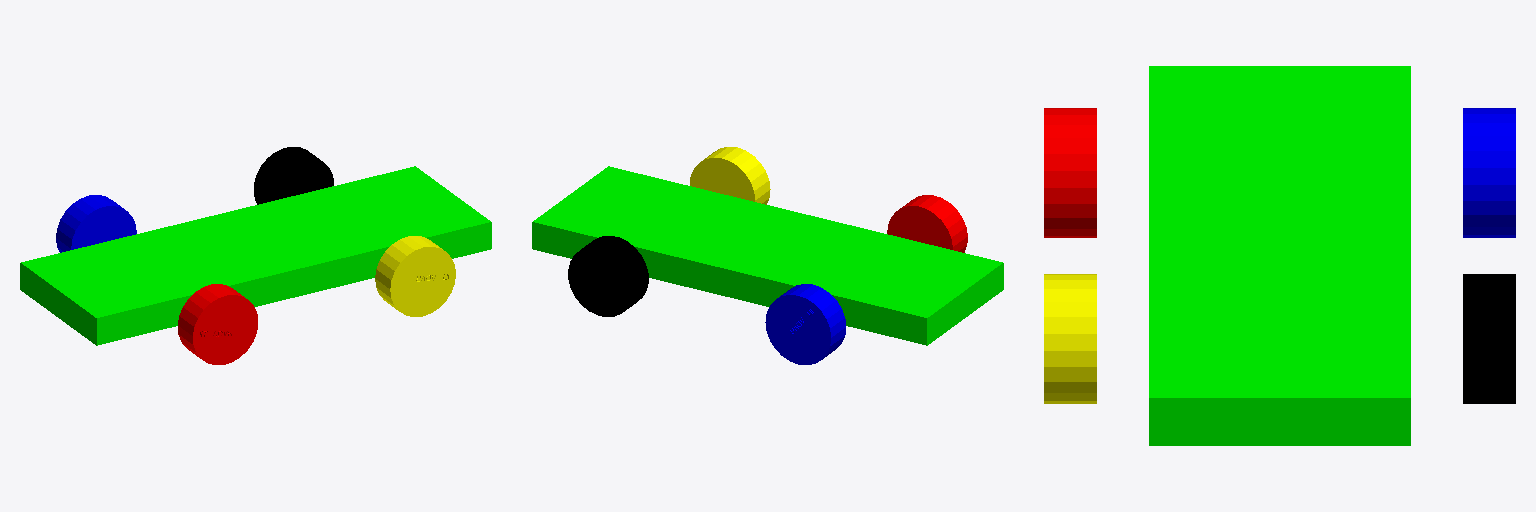
The robot description file, URDF, robot "MAIN":
<robot name="MAIN">
  <link name="CHASSIS_SUB">
    <inertial>
      <origin xyz="6.223 0 0.635" rpy="0 0 0"/>
      <mass value="4252430.0"/>
      <inertia ixx="14860600.0" ixy="0.0" ixz="0.0" iyy="129173000.0" iyz="0.0" izz="142890000.0"/>
    </inertial>
    <visual>
      <origin xyz="0 0 0" rpy="0 0 0"/>
      <geometry>
        <mesh filename="package://advr_mob_plt_description/urdf/meshes/chassis_sub_asm.stl"/>
      </geometry>
      <material name="green">
        <color rgba="0 1 0 1"/>
      </material>
    </visual>
    <collision>
      <origin xyz="0 0 0" rpy="0 0 0"/>
      <geometry>
        <mesh filename="package://advr_mob_plt_description/urdf/meshes/chassis_sub_asm.stl"/>
      </geometry>
    </collision>
  </link>
  <link name="WHEEL_SUB-2">
    <inertial>
      <origin xyz="-0.00404886860109 8.25423 -0.00255636148678" rpy="0 0 0"/>
      <mass value="274974.0"/>
      <inertia ixx="211670.0" ixy="71.8004" ixz="630.96" iyy="349311.0" iyz="45.2175" izz="211702.0"/>
    </inertial>
    <visual>
      <origin xyz="0 7.62 0" rpy="0 0 0"/>
      <geometry>
        <mesh filename="package://advr_mob_plt_description/urdf/meshes/wheel_sub_asm.stl"/>
      </geometry>
      <material name="black">
        <color rgba="0 0 0 1"/>
      </material>
    </visual>
    <collision>
      <origin xyz="0 7.62 0" rpy="0 0 0"/>
      <geometry>
        <mesh filename="package://advr_mob_plt_description/urdf/meshes/wheel_sub_asm.stl"/>
      </geometry>
    </collision>
  </link>
  <joint name="CHASSIS_SUB--WHEEL_SUB-2" type="continuous">
    <origin xyz="10.9855 -3.175 0.635" rpy="0 0.157649211716 0"/>
    <axis xyz="0.0 1.0 0.0"/>
    <parent link="CHASSIS_SUB"/>
    <child link="WHEEL_SUB-2"/>
    <dynamics damping="0.1"/>
  </joint>
  <link name="WHEEL_SUB-1">
    <inertial>
      <origin xyz="-0.00406105508783 8.25423 -0.00255672281907" rpy="0 0 0"/>
      <mass value="274974.0"/>
      <inertia ixx="211670.0" ixy="71.8004" ixz="630.96" iyy="349311.0" iyz="45.2175" izz="211702.0"/>
    </inertial>
    <visual>
      <origin xyz="0 7.62 0" rpy="0 0 0"/>
      <geometry>
        <mesh filename="package://advr_mob_plt_description/urdf/meshes/wheel_sub_asm.stl"/>
      </geometry>
      <material name="red">
        <color rgba="1 0 0 1"/>
      </material>
    </visual>
    <collision>
      <origin xyz="0 7.62 0" rpy="0 0 0"/>
      <geometry>
        <mesh filename="package://advr_mob_plt_description/urdf/meshes/wheel_sub_asm.stl"/>
      </geometry>
    </collision>
  </link>
  <joint name="CHASSIS_SUB--WHEEL_SUB-1" type="continuous">
    <origin xyz="1.4605 3.175 0.635" rpy="0 0.731481857872 3.14159265359"/>
    <axis xyz="0.0 1.0 0.0"/>
    <parent link="CHASSIS_SUB"/>
    <child link="WHEEL_SUB-1"/>
    <dynamics damping="0.1"/>
  </joint>
  <link name="WHEEL_SUB-3">
    <inertial>
      <origin xyz="-0.00406250026746 1.90423 -0.00255957175654" rpy="0 0 0"/>
      <mass value="274974.0"/>
      <inertia ixx="211670.0" ixy="71.8004" ixz="630.96" iyy="349311.0" iyz="45.2175" izz="211702.0"/>
    </inertial>
    <visual>
      <origin xyz="0 1.27 0" rpy="0 0 0"/>
      <geometry>
        <mesh filename="package://advr_mob_plt_description/urdf/meshes/wheel_sub_asm.stl"/>
      </geometry>
      <material name="blue">
        <color rgba="0 0 1 1"/>
      </material>
    </visual>
    <collision>
      <origin xyz="0 1.27 0" rpy="0 0 0"/>
      <geometry>
        <mesh filename="package://advr_mob_plt_description/urdf/meshes/wheel_sub_asm.stl"/>
      </geometry>
    </collision>
  </link>
  <joint name="CHASSIS_SUB--WHEEL_SUB-3" type="continuous">
    <origin xyz="1.4605 3.175 0.635" rpy="0 -1.30226592388 0"/>
    <axis xyz="0.0 -1.0 0.0"/>
    <parent link="CHASSIS_SUB"/>
    <child link="WHEEL_SUB-3"/>
    <dynamics damping="0.1"/>
  </joint>
  <link name="WHEEL_SUB">
    <inertial>
      <origin xyz="-0.00406718663107 1.90423 -0.00256243515197" rpy="0 0 0"/>
      <mass value="274974.0"/>
      <inertia ixx="211670.0" ixy="71.8004" ixz="630.96" iyy="349311.0" iyz="45.2175" izz="211702.0"/>
    </inertial>
    <visual>
      <origin xyz="0 1.27 0" rpy="0 0 0"/>
      <geometry>
        <mesh filename="package://advr_mob_plt_description/urdf/meshes/wheel_sub_asm.stl"/>
      </geometry>
      <material name="yellow">
        <color rgba="1 1 0 1"/>
      </material>
    </visual>
    <collision>
      <origin xyz="0 1.27 0" rpy="0 0 0"/>
      <geometry>
        <mesh filename="package://advr_mob_plt_description/urdf/meshes/wheel_sub_asm.stl"/>
      </geometry>
    </collision>
  </link>
  <joint name="CHASSIS_SUB--WHEEL_SUB" type="continuous">
    <origin xyz="10.9855 -3.175 0.635" rpy="3.14159265359 -0.773676769918 0"/>
    <axis xyz="0.0 -1.0 0.0"/>
    <parent link="CHASSIS_SUB"/>
    <child link="WHEEL_SUB"/>
    <dynamics damping="0.1"/>
  </joint>
  <gazebo>
    <pose>0.0 0.0 0.0 0.0 0.0 0.0</pose>
  </gazebo>
</robot>

--- Render facts (derived) ---
The picture shows the robot from 3 angles, left to right: view 1: azimuth 30°, elevation 25°; view 2: azimuth 150°, elevation 25°; view 3: azimuth 270°, elevation 25°; orthographic projection.
Robot: MAIN — 5 links, 4 joints (4 continuous); root link CHASSIS_SUB; default pose: all joints at 0.
Links seen in each view (by area): view 1: CHASSIS_SUB, WHEEL_SUB, WHEEL_SUB-1, WHEEL_SUB-3, WHEEL_SUB-2; view 2: CHASSIS_SUB, WHEEL_SUB-2, WHEEL_SUB-3, WHEEL_SUB-1, WHEEL_SUB; view 3: CHASSIS_SUB, WHEEL_SUB-2, WHEEL_SUB-1, WHEEL_SUB-3, WHEEL_SUB.
Boxes of the visible links, x1=… form: CHASSIS_SUB: x1=20, y1=166, x2=491, y2=345; WHEEL_SUB: x1=375, y1=236, x2=455, y2=316; WHEEL_SUB-1: x1=178, y1=284, x2=257, y2=364; WHEEL_SUB-3: x1=56, y1=195, x2=136, y2=252; WHEEL_SUB-2: x1=254, y1=147, x2=333, y2=204; CHASSIS_SUB: x1=532, y1=166, x2=1003, y2=345; WHEEL_SUB-2: x1=568, y1=236, x2=648, y2=316; WHEEL_SUB-3: x1=765, y1=284, x2=845, y2=364; WHEEL_SUB-1: x1=887, y1=195, x2=967, y2=252; WHEEL_SUB: x1=690, y1=147, x2=770, y2=204; CHASSIS_SUB: x1=1149, y1=66, x2=1410, y2=445; WHEEL_SUB-2: x1=1463, y1=274, x2=1515, y2=403; WHEEL_SUB-1: x1=1044, y1=108, x2=1096, y2=237; WHEEL_SUB-3: x1=1463, y1=108, x2=1515, y2=237; WHEEL_SUB: x1=1044, y1=274, x2=1096, y2=403.
Bounding box of the posed robot: 19.05 × 11.43 × 3.17 m (x, y, z).
5 mesh visuals loaded from 2 distinct referenced files (2 binary STL).